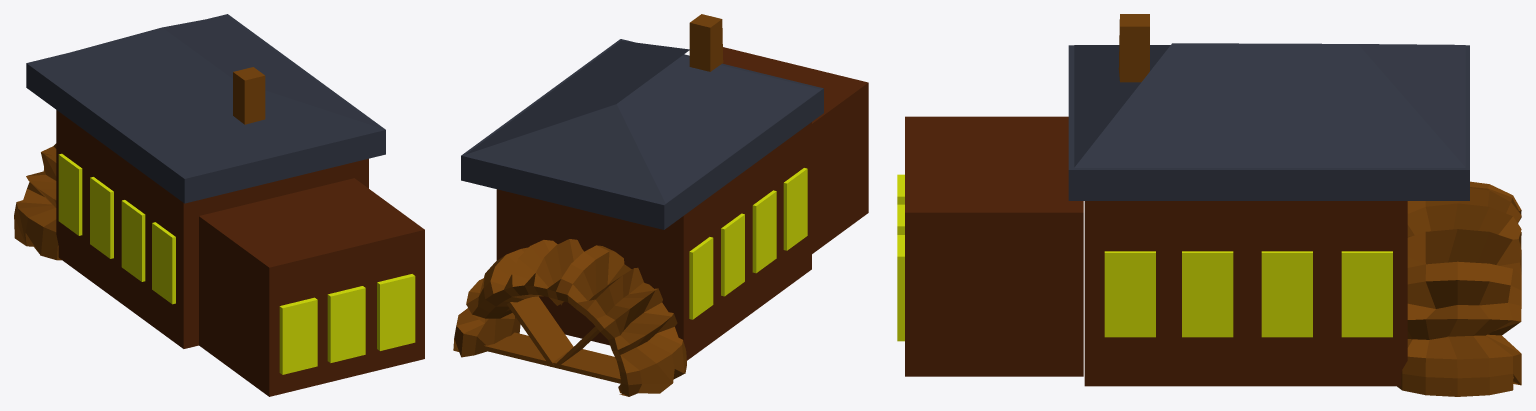
Rendered from watermill.fbx.
3 renders of one model, left to right at view 1: azimuth 30°, elevation 25°; view 2: azimuth 150°, elevation 25°; view 3: azimuth 270°, elevation 25°, orthographic. The views are drawn at different scales.
Visible parts, largest first — view 1: Cube.001, Cube.002, Cube, Cube.003, Torus, Cube.018, Cube.019, Cube.020, Cube.009, Cube.011, Cube.004, Cube.013 (+1 smaller); view 2: Cube.002, Cube, Torus, Cube.003, Cube.001, Cube.006, Cube.007, Cube.011, Cube.004, Cube.009, Cube.013, Cube.010 (+1 smaller); view 3: Cube.002, Cube.001, Cube, Torus, Cube.003, Cube.014, Cube.015, Cube.016, Cube.017, Cube.004, Cube.020.
Boxes of the visible parts, x1,y1,x2,y2 form: Cube.001: (199,178,424,396); Cube.002: (28,15,380,176); Cube: (56,110,368,348); Cube.003: (26,14,385,203); Torus: (14,143,61,260); Cube.018: (279,297,317,374); Cube.019: (327,286,365,362); Cube.020: (377,274,415,350); Cube.009: (58,153,82,235); Cube.011: (121,200,145,281); Cube.004: (233,67,265,124); Cube.013: (152,222,175,304); Cube.002: (465,40,820,203); Cube: (496,122,811,360); Torus: (453,239,686,396); Cube.003: (461,39,823,229); Cube.001: (722,47,868,253); Cube.006: (482,332,621,383); Cube.007: (507,296,573,366); Cube.011: (752,190,776,273); Cube.004: (689,14,723,71); Cube.009: (689,237,713,319); Cube.013: (783,168,807,250); Cube.010: (721,213,744,296); Cube.002: (1074,43,1465,167); Cube.001: (905,116,1083,376); Cube: (1084,201,1407,386); Torus: (1397,181,1521,396); Cube.003: (1068,45,1469,200); Cube.014: (1104,251,1155,337); Cube.015: (1341,251,1392,337); Cube.016: (1182,251,1233,337); Cube.017: (1261,251,1312,337); Cube.004: (1118,14,1149,82); Cube.020: (897,235,904,341).
Size of the model in its own units: 2031 by 2315 by 4164.
